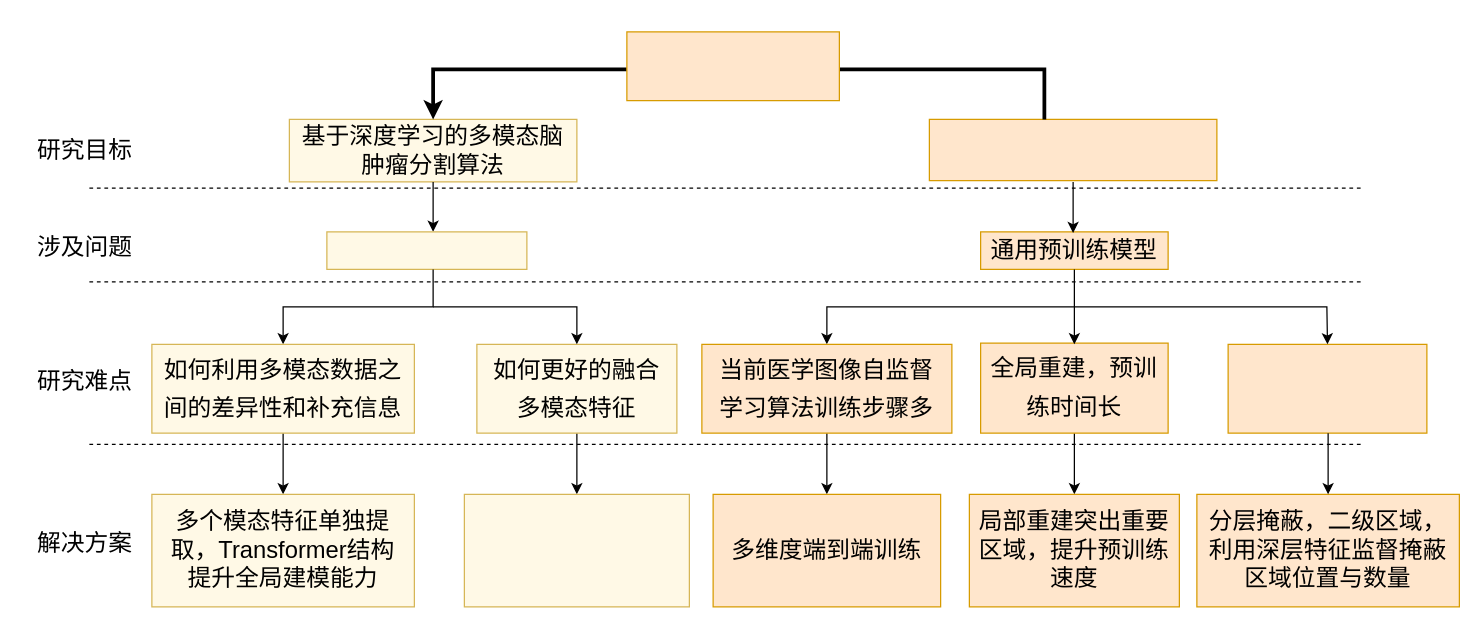
Image size: 1481x629. Some labels were removed from this diagram. Here are the shapes that lost their labels. From the top down, the box of each, then its label:
(626, 31, 839, 101): 预训练分割算法
(928, 118, 1217, 181): 基于多维度联合学习的通用医学图像自监督学习
(326, 231, 527, 269): 多模态脑肿瘤分割
(1227, 343, 1427, 433): 没有对深层特征进行监督
(463, 493, 689, 607): 利用自注意力与互注意力机制，空间-维度两个方向融合
